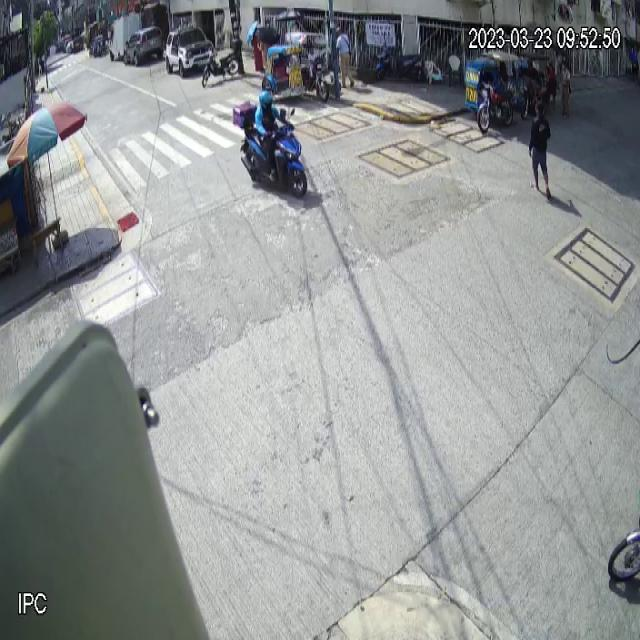Motorcycle: (233, 105, 310, 199), (202, 49, 240, 88)
Tricycle: (464, 50, 521, 134), (262, 32, 330, 102)
